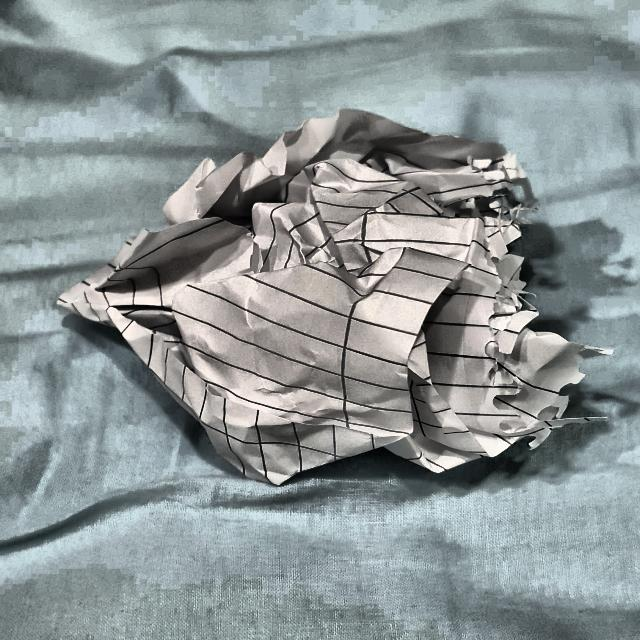paper: (96, 119, 574, 484)
